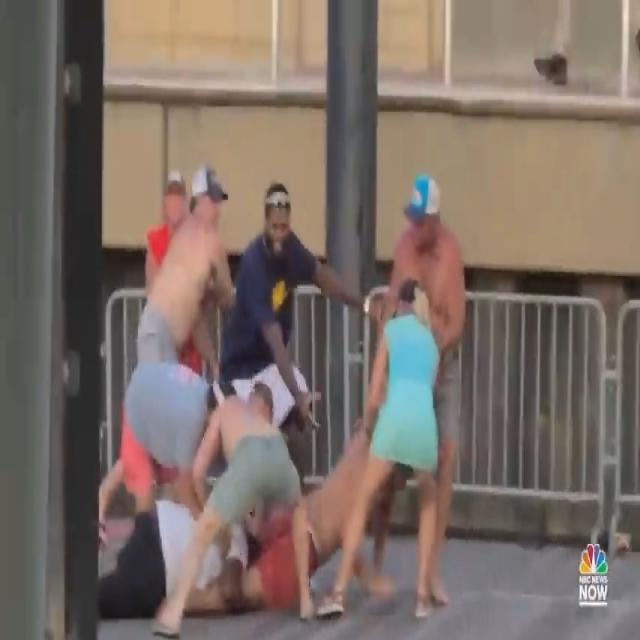fight: (101, 150, 478, 640)
